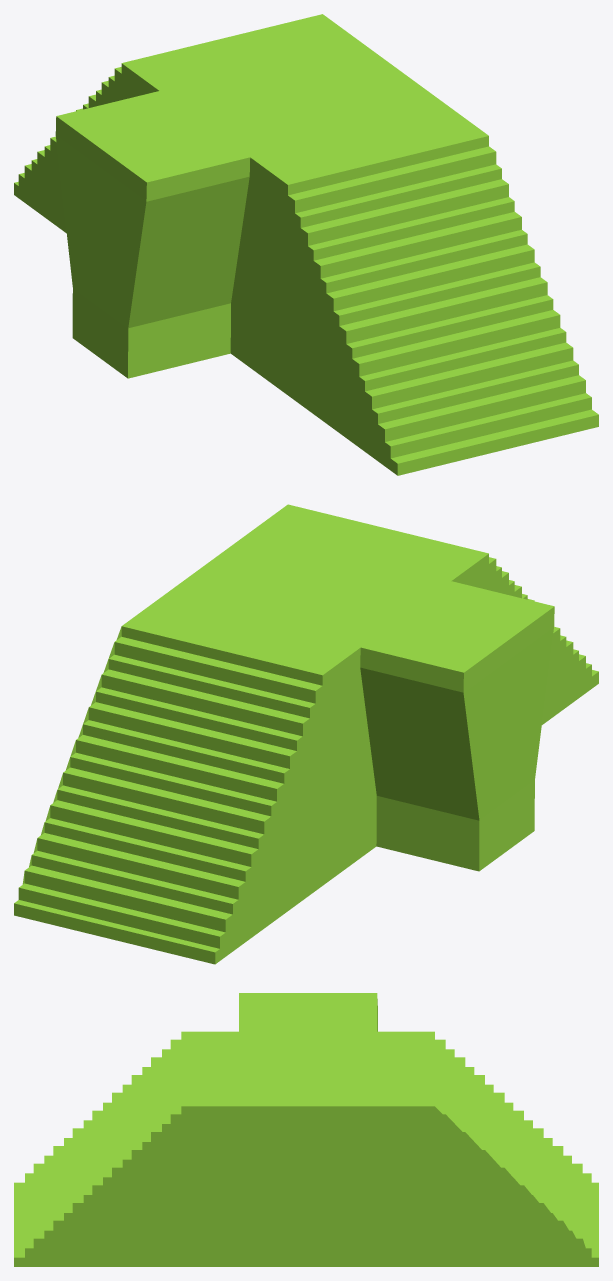
Rendered from escalilowr.fbx.
3 views of the same model, one above another, from view 1: azimuth 30°, elevation 25°; view 2: azimuth 150°, elevation 25°; view 3: azimuth 270°, elevation 25° (orthographic). The views are drawn at different scales.
Visible parts, largest first — view 1: straies_low; view 2: straies_low; view 3: straies_low.
Boxes of the visible parts, x1=… form: straies_low: x1=14, y1=14, x2=598, y2=475; straies_low: x1=14, y1=504, x2=598, y2=964; straies_low: x1=14, y1=993, x2=598, y2=1266.
Bounding box in the file's own units: 10.21 × 4.68 × 3.09.
